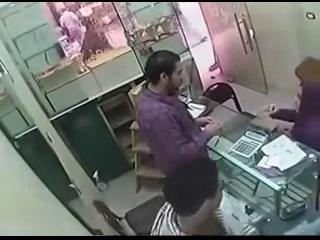Normal: (135, 50, 222, 176), (149, 159, 226, 236), (201, 82, 243, 113), (230, 128, 269, 158), (280, 200, 308, 220)
